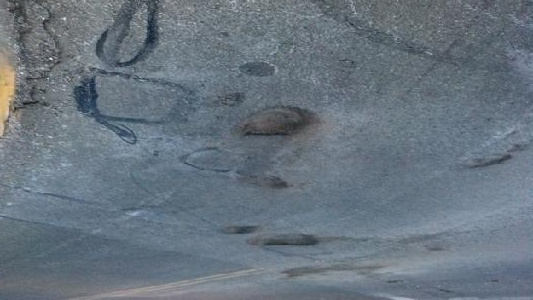pothole: (3, 1, 62, 111), (232, 105, 313, 139), (246, 232, 319, 250), (460, 149, 512, 171), (219, 223, 258, 237)
